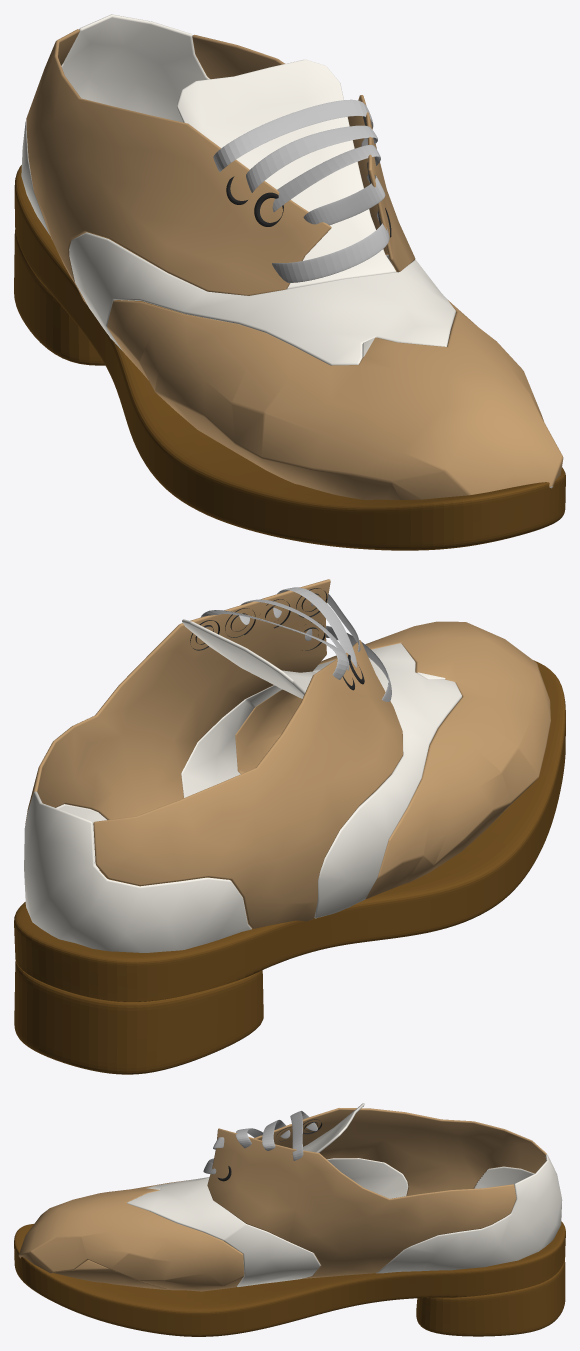
File: za2in1derecha.fbx
3 views of the same model, one above another, from view 1: azimuth 30°, elevation 25°; view 2: azimuth 150°, elevation 25°; view 3: azimuth 270°, elevation 25° (orthographic). The views are drawn at different scales.
Parts seen in each view (by area): view 1: zapato2, Plane, Plane.004, Plane.005, Plane.003, Plane.001, Plane.002; view 2: zapato2, Plane, Plane.001, Plane.004; view 3: zapato2, Plane, Plane.004, Plane.003, Plane.001.
Boxes of the visible parts, left/top/right/bottom form: zapato2: left=21, top=14, right=563, bottom=499; Plane: left=14, top=165, right=565, bottom=550; Plane.004: left=213, top=99, right=373, bottom=171; Plane.005: left=272, top=212, right=389, bottom=282; Plane.003: left=246, top=125, right=377, bottom=192; Plane.001: left=272, top=145, right=380, bottom=211; Plane.002: left=303, top=174, right=385, bottom=225; zapato2: left=24, top=579, right=550, bottom=952; Plane: left=14, top=660, right=565, bottom=1074; Plane.001: left=273, top=587, right=357, bottom=667; Plane.004: left=200, top=610, right=347, bottom=679; zapato2: left=18, top=1103, right=562, bottom=1291; Plane: left=14, top=1221, right=565, bottom=1336; Plane.004: left=290, top=1110, right=317, bottom=1160; Plane.003: left=262, top=1119, right=290, bottom=1150; Plane.001: left=235, top=1128, right=262, bottom=1148.
Size of the model in its own units: 169 by 176 by 447.
